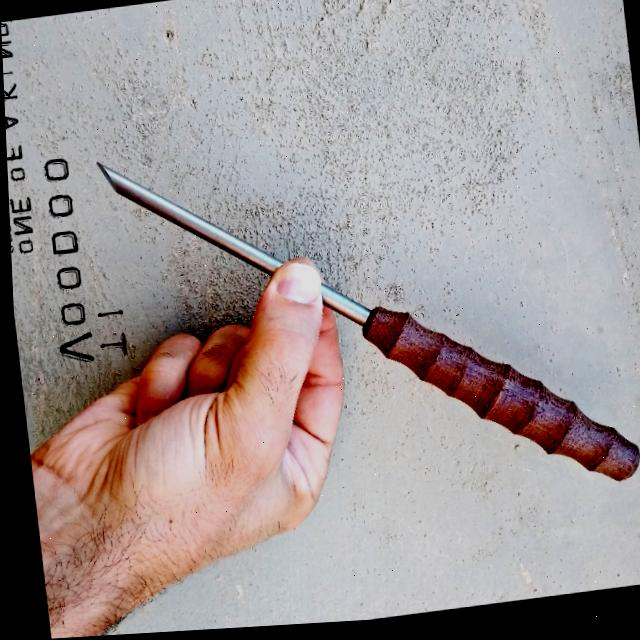ice pick: (91, 102, 638, 547)
